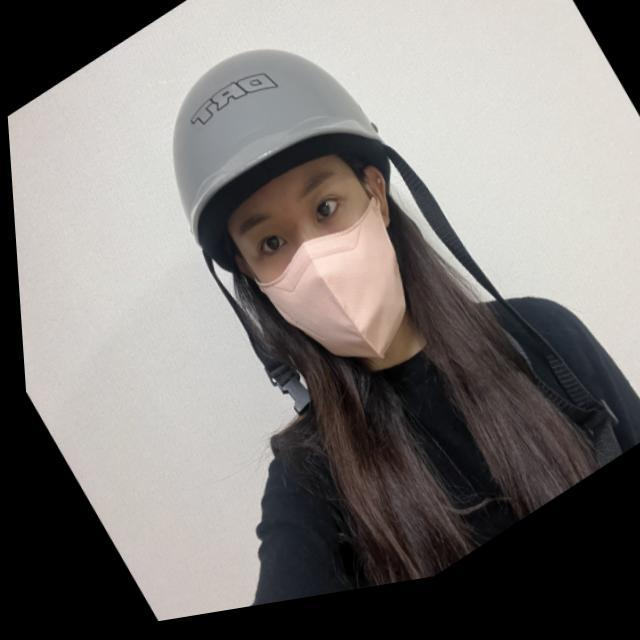Helmet: (150, 32, 441, 383)
